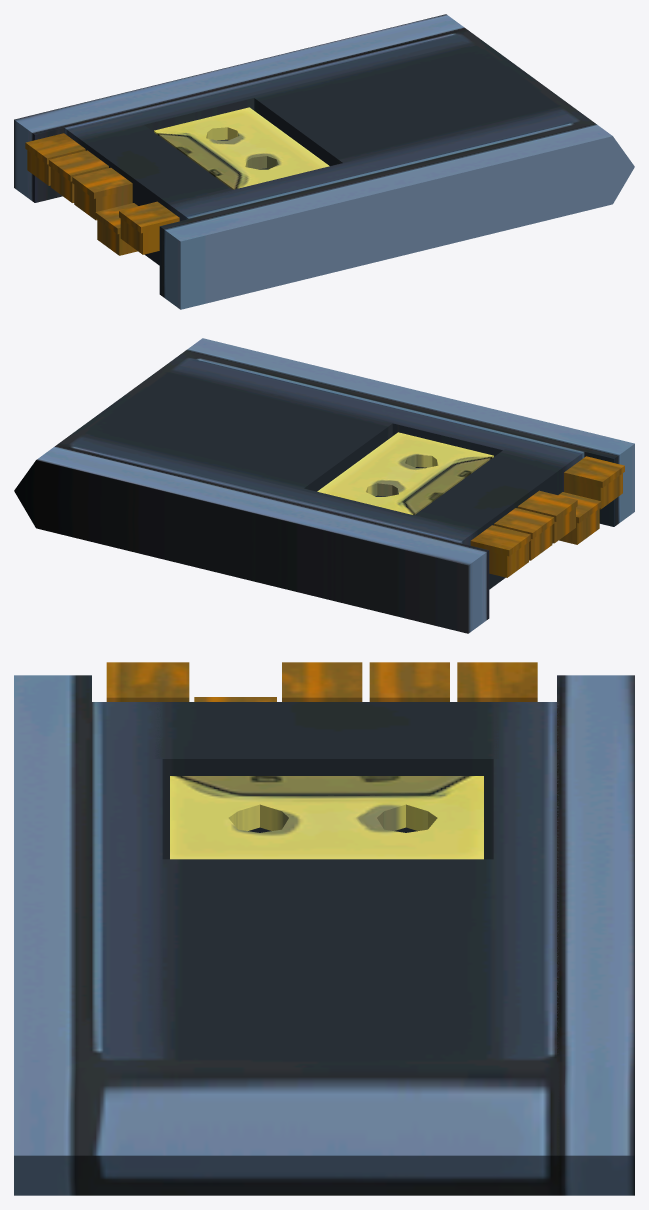
Rendered from Recorder.glb.
The picture shows the model from 3 angles, top to bottom: view 1: azimuth 30°, elevation 25°; view 2: azimuth 150°, elevation 25°; view 3: azimuth 270°, elevation 25°; orthographic projection. The views are drawn at different scales.
Visible parts, largest first — view 1: Recorder; view 2: Recorder; view 3: Recorder.
Part boxes in pixels (bbox=[...]): Recorder: bbox=[14, 14, 634, 309]; Recorder: bbox=[14, 338, 634, 633]; Recorder: bbox=[14, 662, 634, 1195].
Bounding box in the file's own units: 219 × 30.47 × 135.
1 material, 1 textured.
